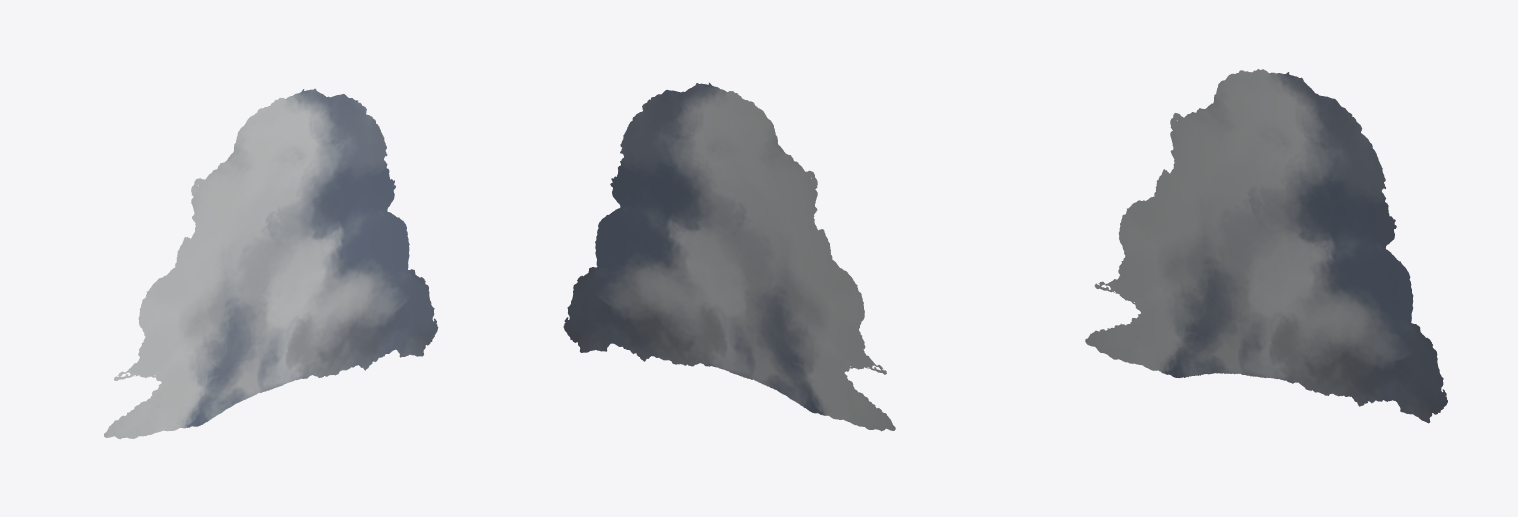
File: cloudC.fbx
The picture shows the model from 3 angles, left to right: view 1: azimuth 30°, elevation 25°; view 2: azimuth 150°, elevation 25°; view 3: azimuth 330°, elevation 25°; orthographic projection. The views are drawn at different scales.
Parts seen in each view (by area): view 1: cloudC; view 2: cloudC; view 3: cloudC.
Boxes of the visible parts, box(x1,y1,x2,y2) form: cloudC: box(104, 88, 438, 439); cloudC: box(563, 82, 895, 431); cloudC: box(1085, 69, 1447, 423).
Size of the model in its own units: 526 by 446 by 21.44.
Materials: 1 (1 with a texture image).
